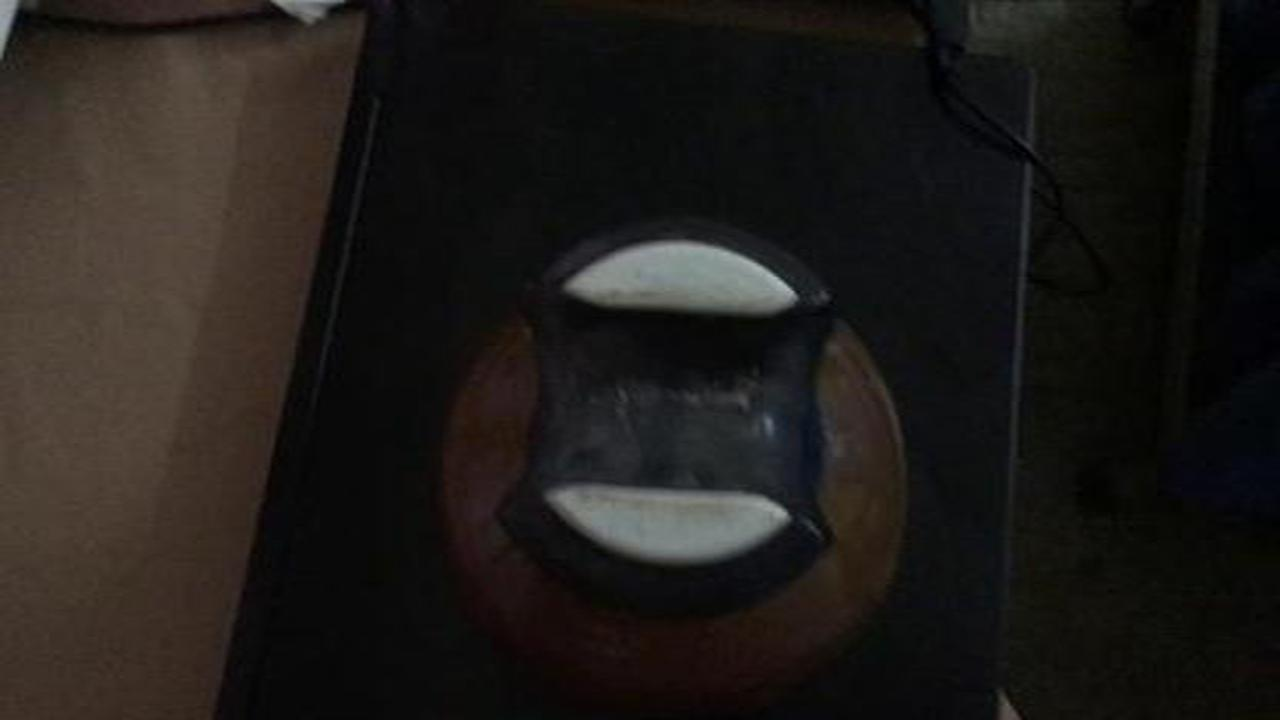insulator_pin: (401, 211, 945, 696)
